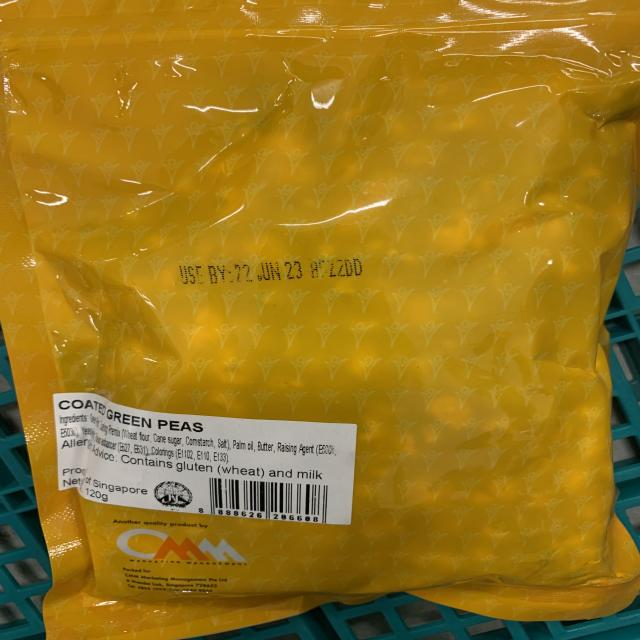object_name: (7, 8, 606, 617)
